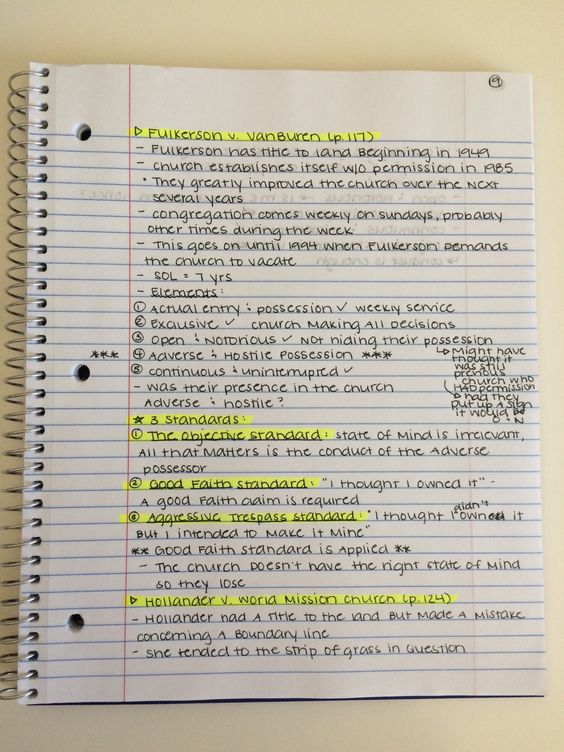page: (53, 67, 539, 698)
